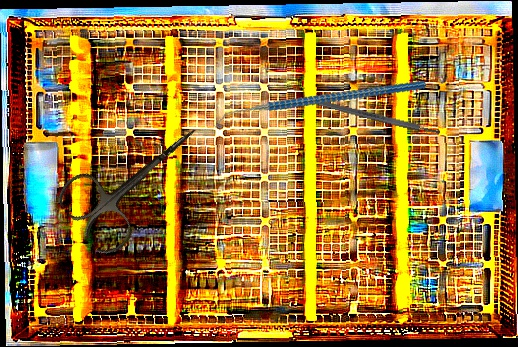Chopper: (212, 43, 427, 166)
Iris Scissors: (51, 97, 224, 261)
Scalpel Handle: (318, 99, 441, 137)
